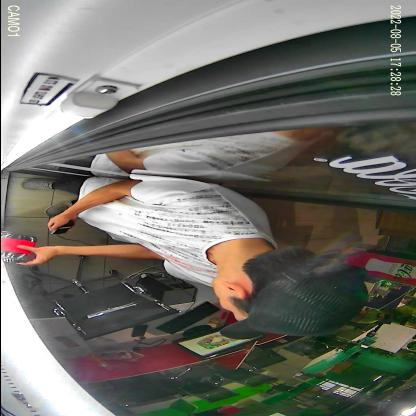red: (0, 231, 37, 263)
